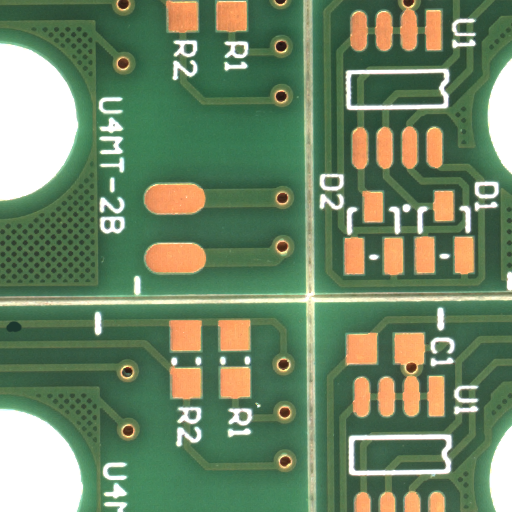Mouse_bite: (14, 326, 31, 339)
